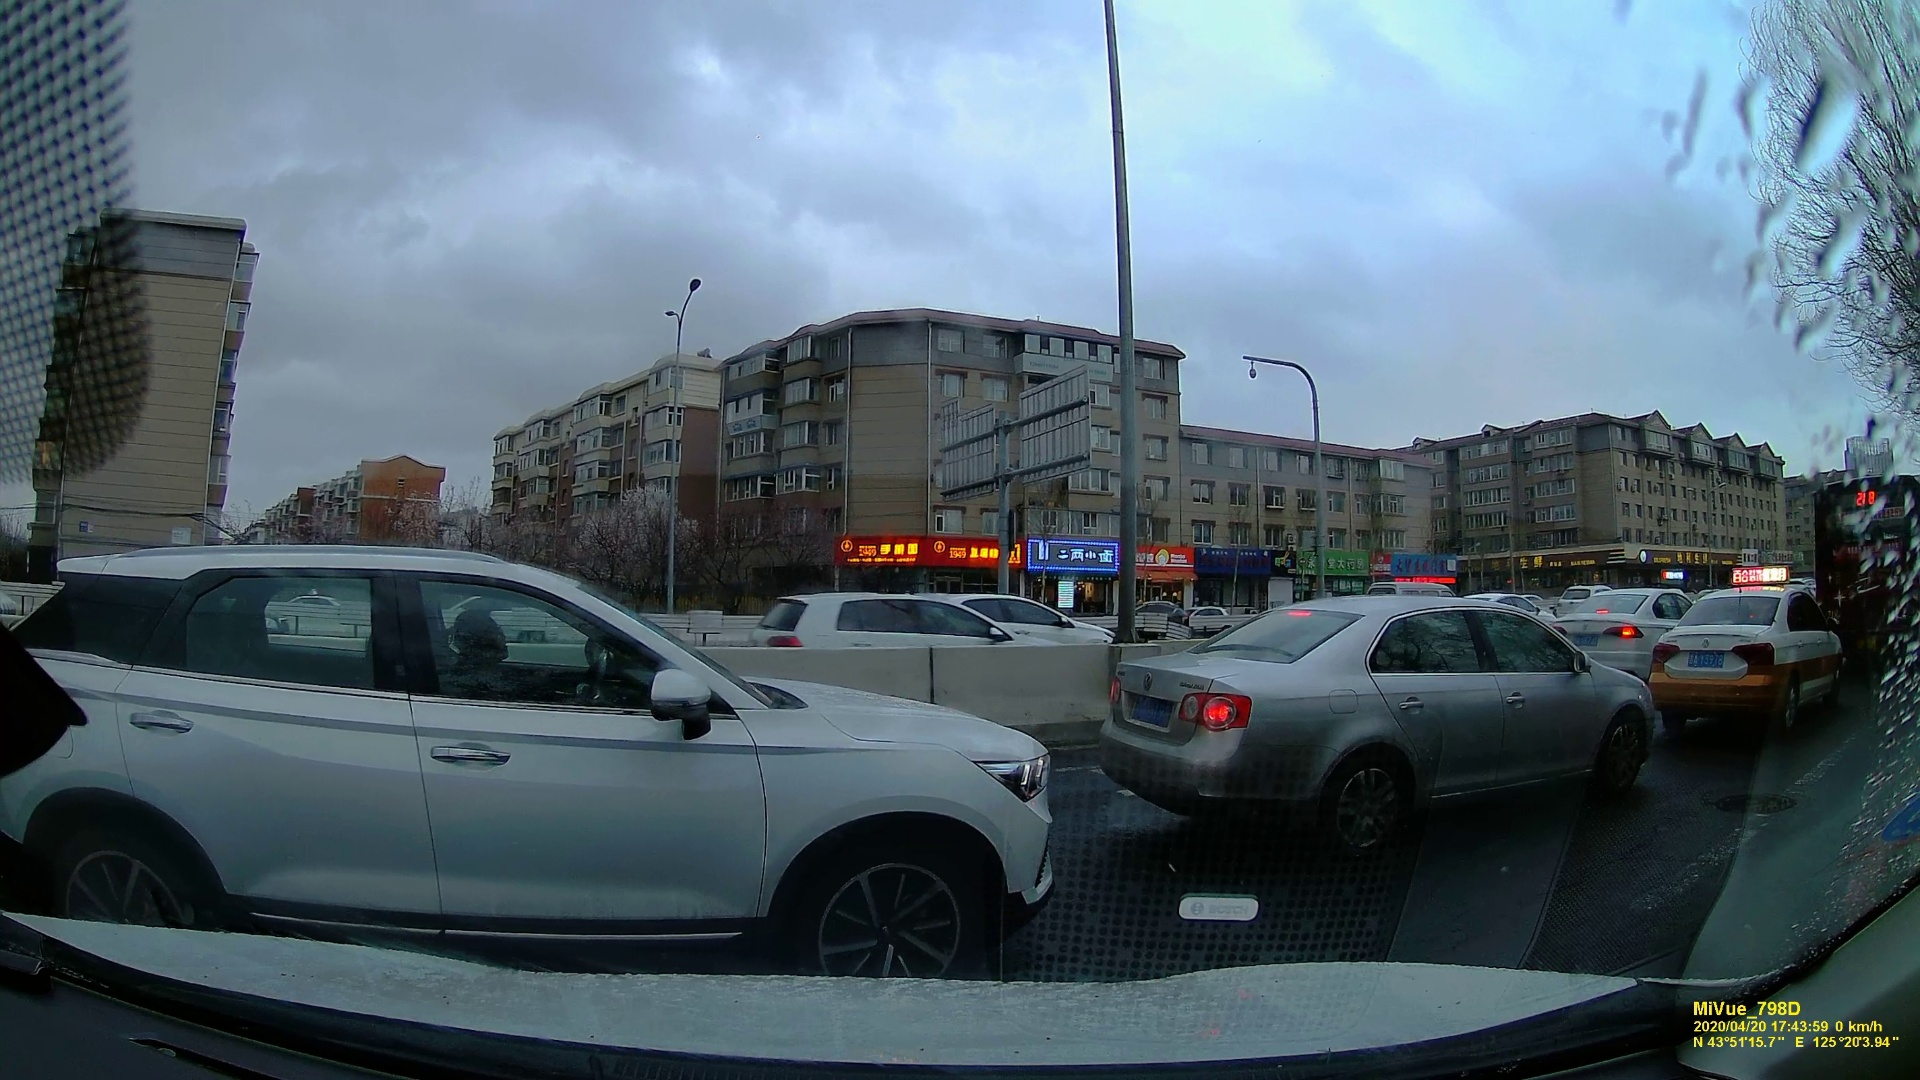bus: (1809, 480, 1915, 688)
vehicle: (11, 553, 1083, 968), (1083, 585, 1671, 840), (1658, 579, 1849, 738), (731, 588, 1040, 661), (1549, 584, 1696, 691), (1188, 607, 1233, 629)
